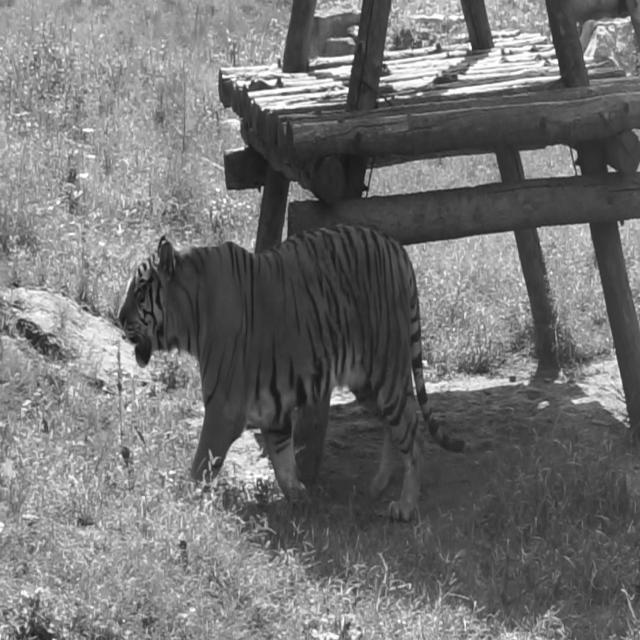Tiger: (117, 221, 466, 524)
